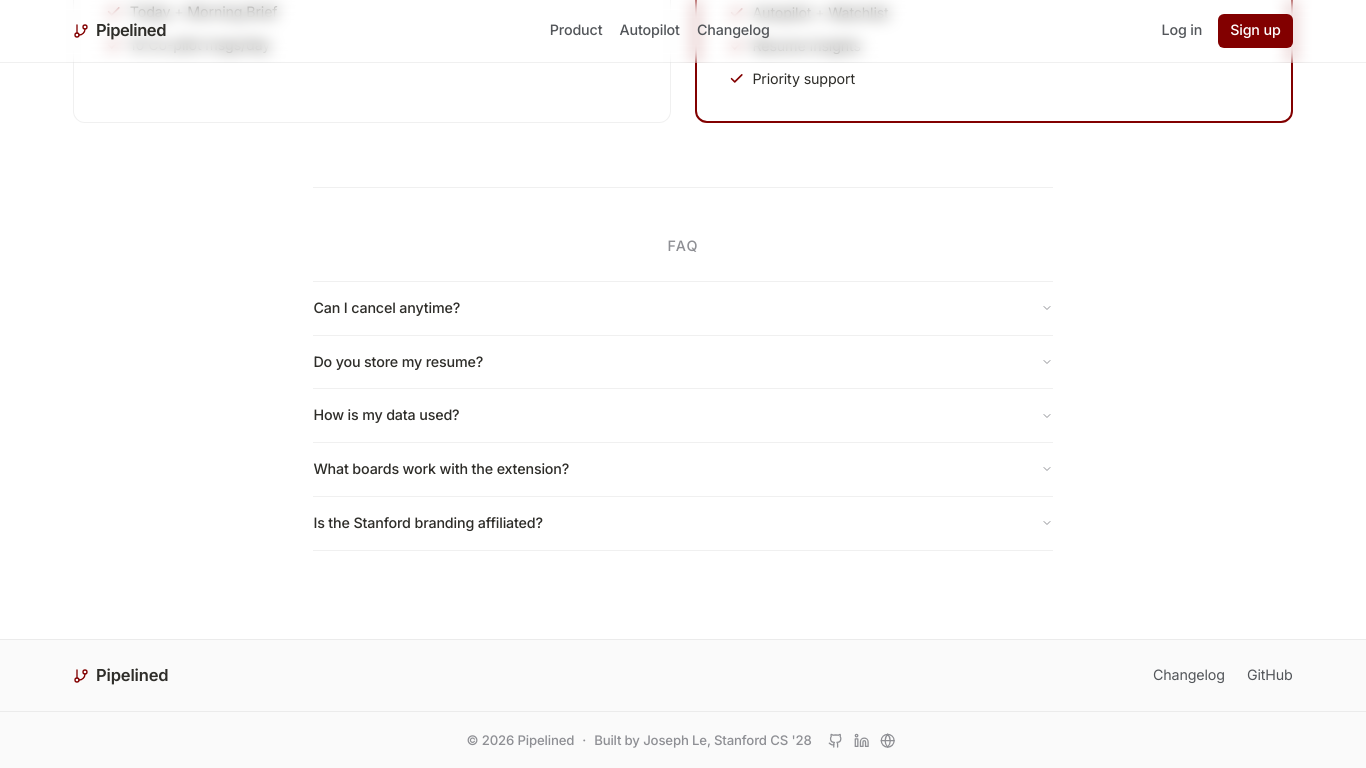
Pricing page › should include Stanford affiliation disclaimer in FAQ
The width and height of the screenshot is (1366, 768).
(page scrolled)
Expected: the text "Is the Stanford branding affiliated?" is shown, [313, 513, 543, 534]
Click the heading "Is the Stanford branding affiliated?".
click(428, 522)  # box [313, 514, 1053, 531]
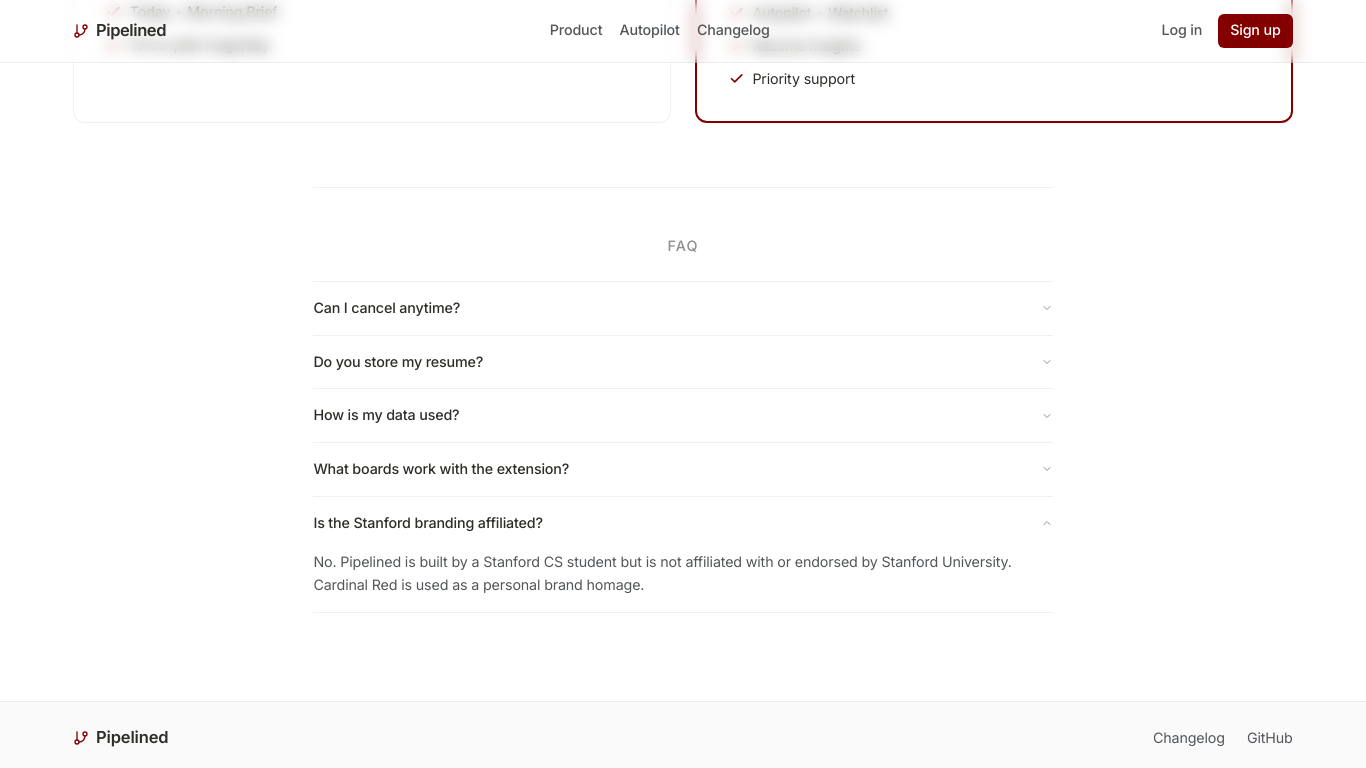
Now the text "not affiliated with or endorsed by stanford university" is shown, box [313, 552, 1012, 593]
